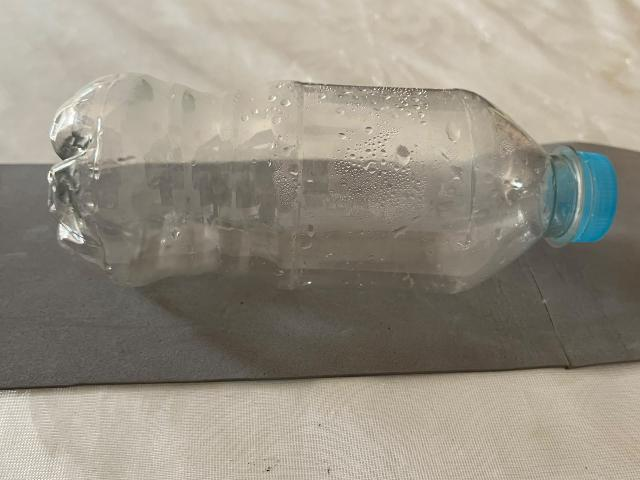PET: (9, 34, 640, 330)
